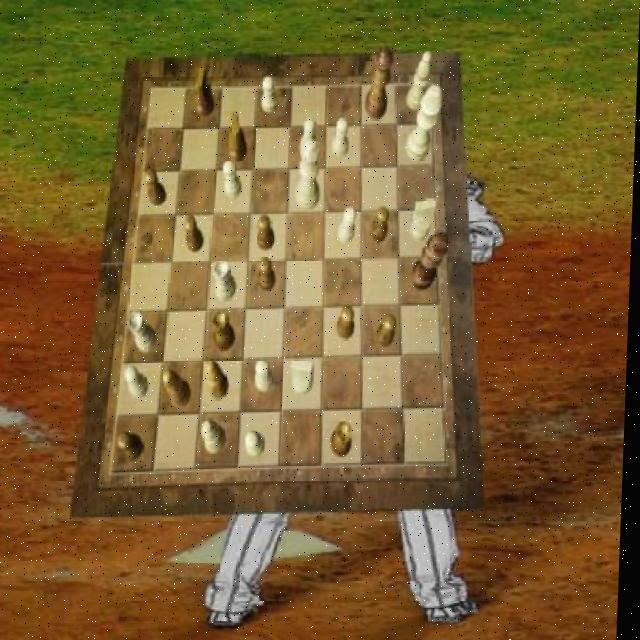bishop: (165, 369, 195, 408), (207, 360, 232, 400)
black-bishop: (413, 232, 452, 291)
black-king: (197, 66, 218, 117), (229, 114, 250, 163)
black-knight: (145, 170, 169, 206), (187, 216, 208, 252), (121, 432, 147, 460), (379, 315, 400, 348), (259, 216, 277, 252), (339, 306, 358, 340), (259, 257, 278, 291), (372, 208, 390, 242)
black-pawn: (366, 45, 395, 119)
black-queen: (214, 312, 239, 352), (334, 422, 356, 456)
black-rook: (408, 52, 432, 112), (205, 419, 230, 453)
white-bishop: (406, 85, 444, 162)
white-king: (411, 198, 439, 241), (293, 358, 317, 394)
white-knight: (127, 364, 152, 398), (332, 118, 351, 158), (224, 162, 244, 199), (258, 358, 278, 392), (301, 119, 319, 156), (339, 208, 358, 242), (263, 75, 280, 113), (248, 431, 269, 456)
white-pawn: (297, 138, 324, 211)
white-queen: (130, 311, 160, 352), (216, 260, 240, 302)
